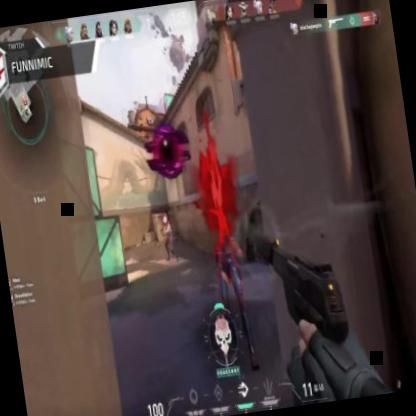enemy: (159, 212, 178, 266)
enemy_head: (161, 213, 169, 225)
